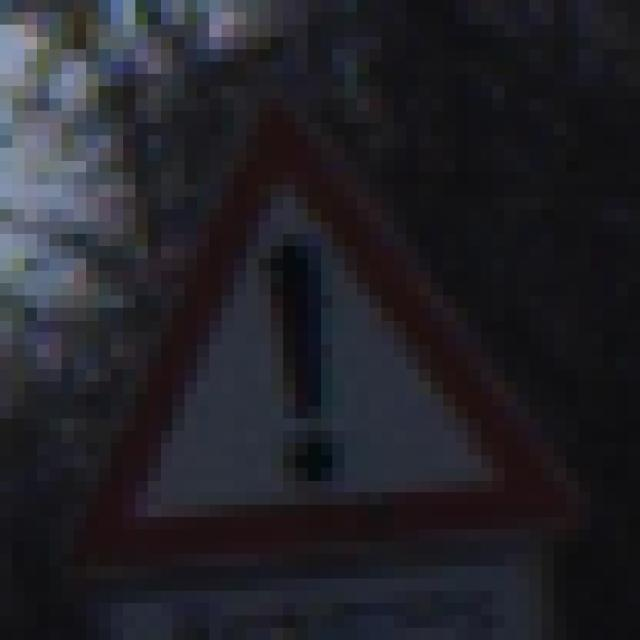Attention Please-: (62, 61, 616, 578)
